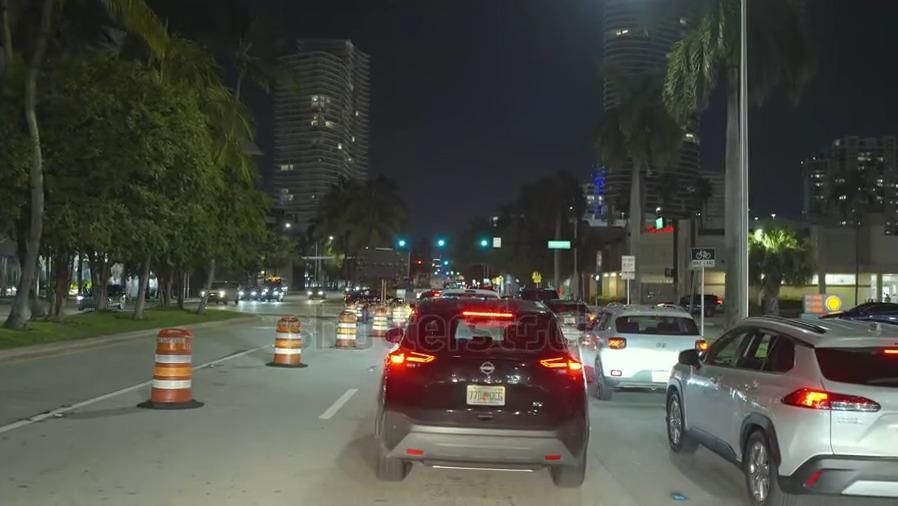car: (657, 313, 898, 506), (373, 299, 590, 487), (575, 303, 708, 389), (829, 295, 898, 325), (66, 280, 131, 311), (542, 295, 595, 329), (193, 276, 239, 307), (666, 291, 725, 312), (343, 285, 403, 304), (304, 284, 327, 300), (262, 287, 283, 302), (241, 284, 258, 302)
cone: (149, 326, 195, 403), (269, 314, 305, 367), (331, 307, 358, 348), (367, 303, 385, 339), (389, 301, 403, 330)
traffic light: (469, 234, 495, 252), (431, 232, 454, 252), (392, 233, 412, 253)
wheel: (739, 426, 788, 506), (662, 390, 701, 456)
